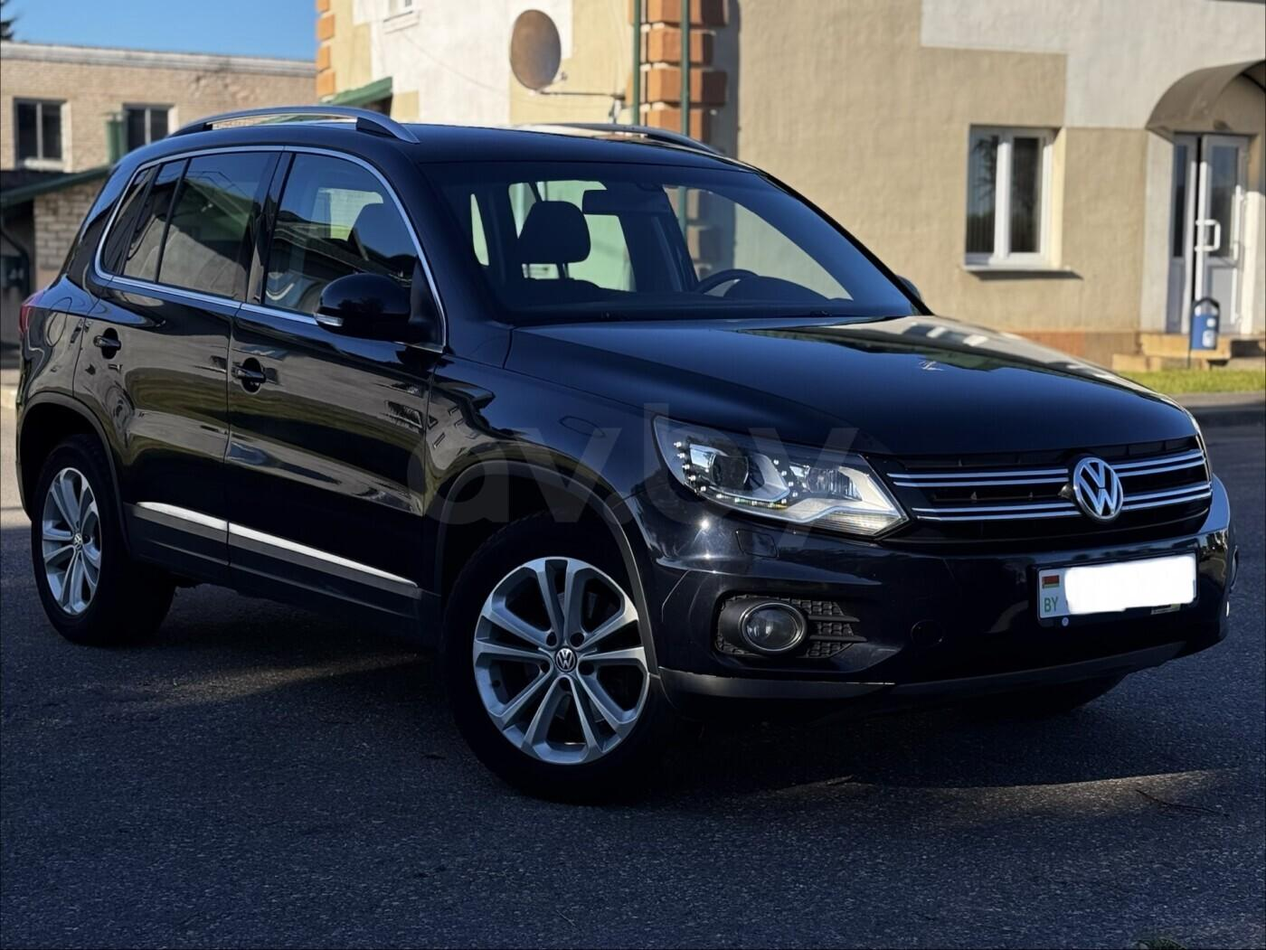Tiguan_2011-2018: (13, 108, 1238, 789)
